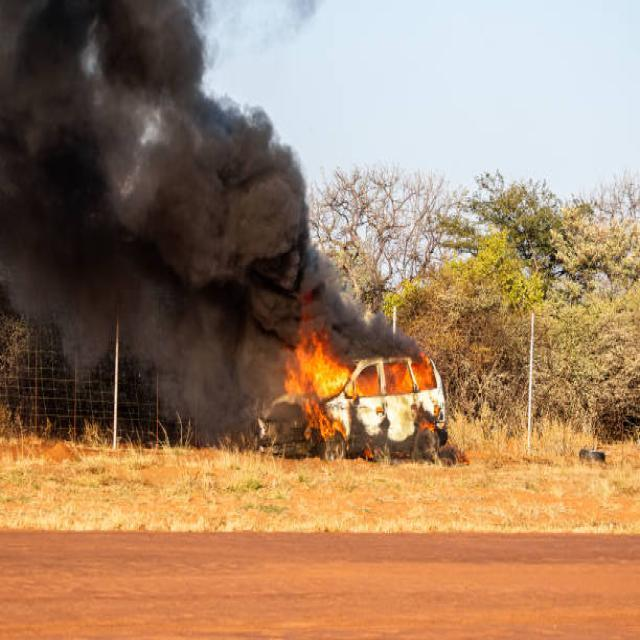Fire: (283, 311, 362, 440), (392, 351, 436, 394)
Smoke: (0, 0, 418, 444)
